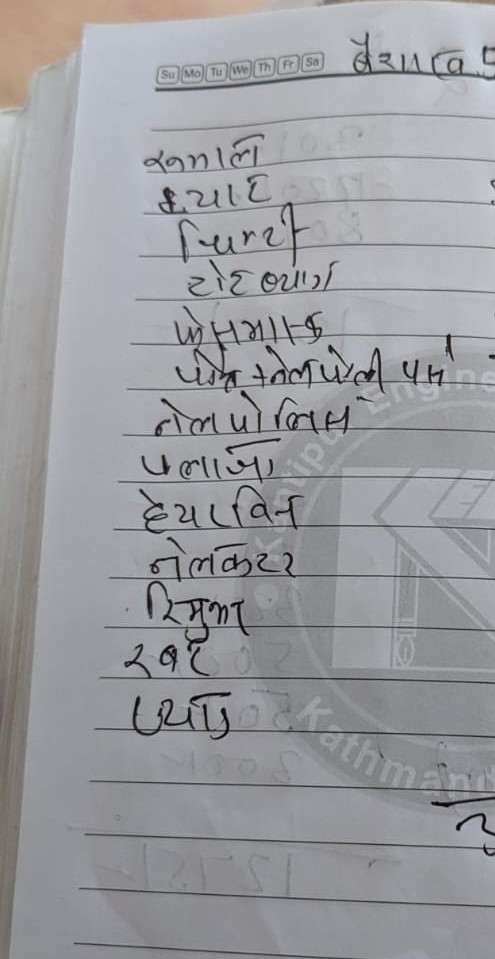text: (169, 337, 398, 391), (146, 388, 373, 439), (132, 482, 314, 535), (167, 296, 340, 348), (149, 529, 303, 586), (137, 580, 266, 641), (123, 684, 244, 746), (343, 26, 470, 82), (135, 440, 285, 486), (173, 210, 311, 257), (138, 130, 269, 177), (175, 257, 337, 293), (118, 630, 222, 684), (160, 176, 276, 216)
